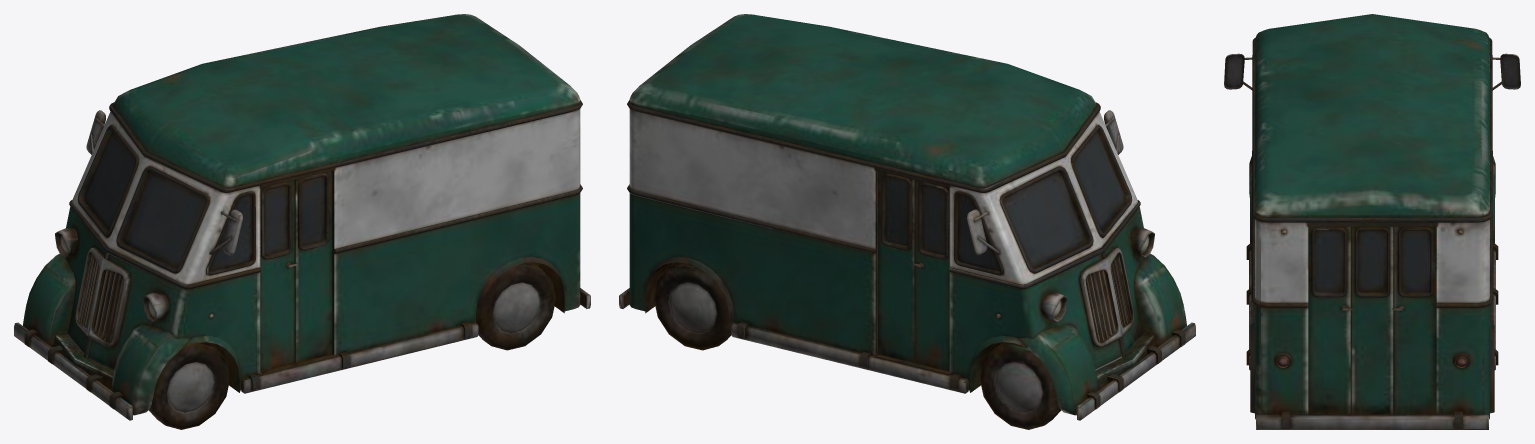
The model's file is prop_van.glb.
The picture shows the model from 3 angles, left to right: view 1: azimuth 30°, elevation 25°; view 2: azimuth 150°, elevation 25°; view 3: azimuth 270°, elevation 25°; orthographic projection.
Visible parts, largest first — view 1: Cube.001_0; view 2: Cube.001_0; view 3: Cube.001_0.
Boxes of the visible parts, left/top/right/bottom form: Cube.001_0: left=14, top=14, right=590, bottom=429; Cube.001_0: left=619, top=14, right=1195, bottom=429; Cube.001_0: left=1224, top=14, right=1520, bottom=429.
Size of the model in its own units: 26.52 by 14.42 by 14.4.
Materials: 1 (1 with a texture image).
